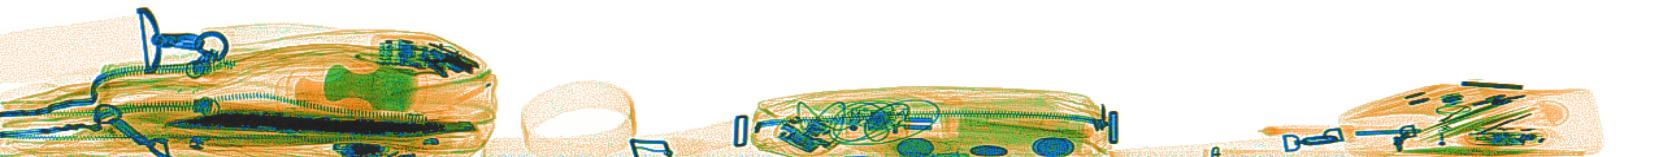seal: (322, 62, 420, 109), (292, 68, 387, 117)
